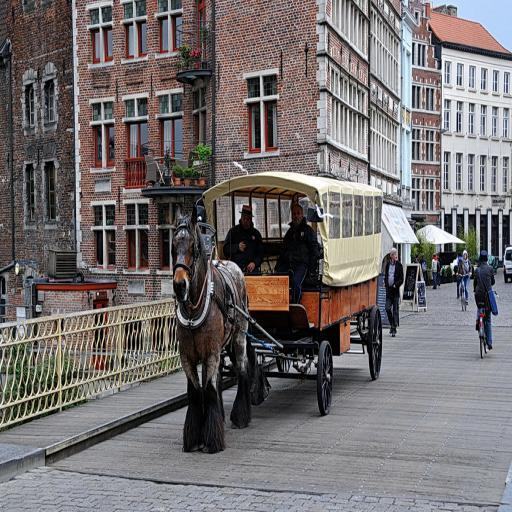horse: (170, 202, 252, 451)
